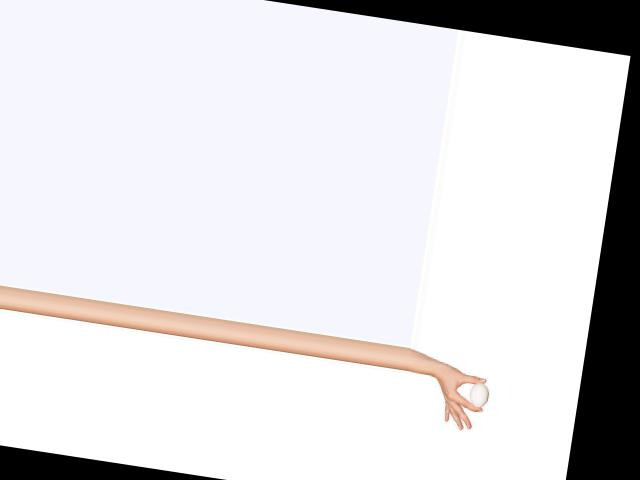egg: (468, 381, 491, 408)
